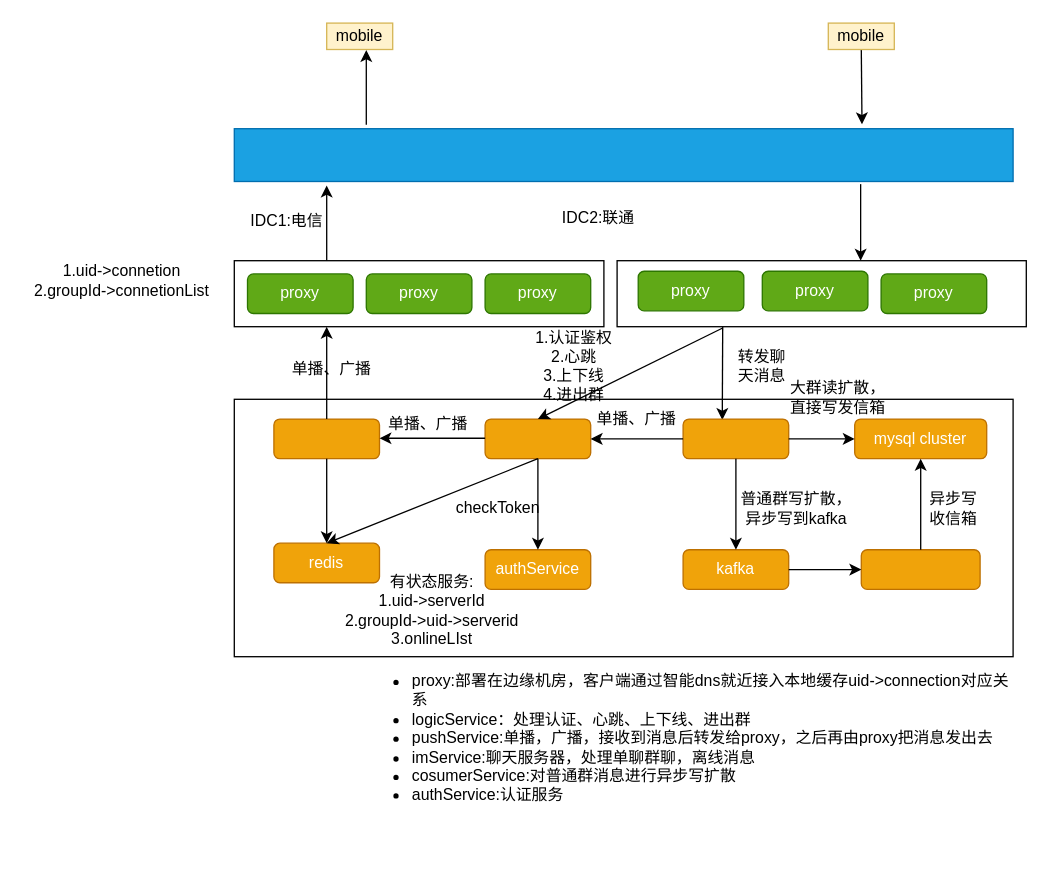
This 1049x891 diagram has some shape labels left out. The shapes that lost their labels are listed below. From the top down, each one's box as (x1, y1, x2, y2) in pixels, then its label:
(233, 127, 1013, 182): Mars(tcp) /JSSDK(websocket)
(273, 418, 380, 459): pushService
(484, 418, 591, 459): logicService
(682, 418, 789, 459): imService
(860, 548, 980, 589): consumerService
